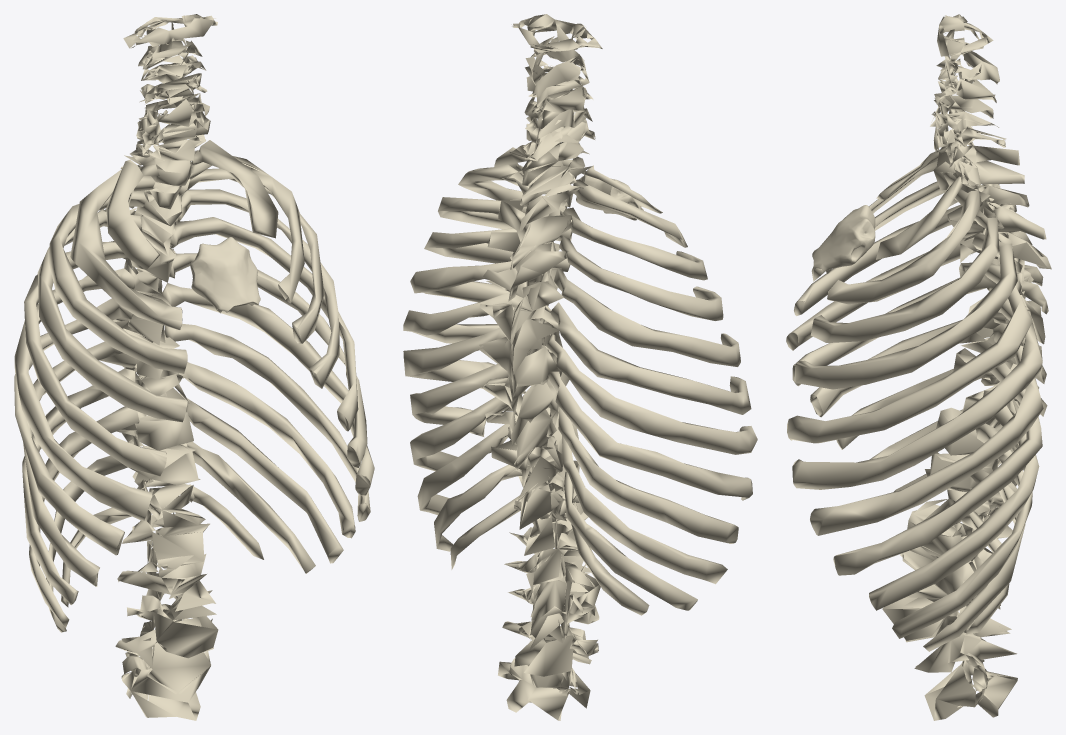
Rendered from trunk-mobile.glb.
3 views of the same model, side by side, from view 1: azimuth 30°, elevation 25°; view 2: azimuth 150°, elevation 25°; view 3: azimuth 270°, elevation 25° (orthographic).
Parts seen in each view (by area): view 1: bp3d.FMA7574, bp3d.FMA9914, bp3d.FMA12215; view 2: bp3d.FMA7574, bp3d.FMA9914, bp3d.FMA12215; view 3: bp3d.FMA7574, bp3d.FMA9914, bp3d.FMA12215.
Boxes of the visible parts, left/top/right/bottom form: bp3d.FMA7574: left=14, top=140, right=374, bottom=632; bp3d.FMA9914: left=99, top=14, right=218, bottom=720; bp3d.FMA12215: left=190, top=237, right=260, bottom=313; bp3d.FMA7574: left=403, top=147, right=757, bottom=615; bp3d.FMA9914: left=477, top=14, right=602, bottom=720; bp3d.FMA12215: left=576, top=175, right=643, bottom=220; bp3d.FMA7574: left=786, top=143, right=1043, bottom=651; bp3d.FMA9914: left=882, top=14, right=1051, bottom=720; bp3d.FMA12215: left=812, top=205, right=875, bottom=273.
Size of the model in its own units: 0.2745 by 0.5749 by 0.201.
